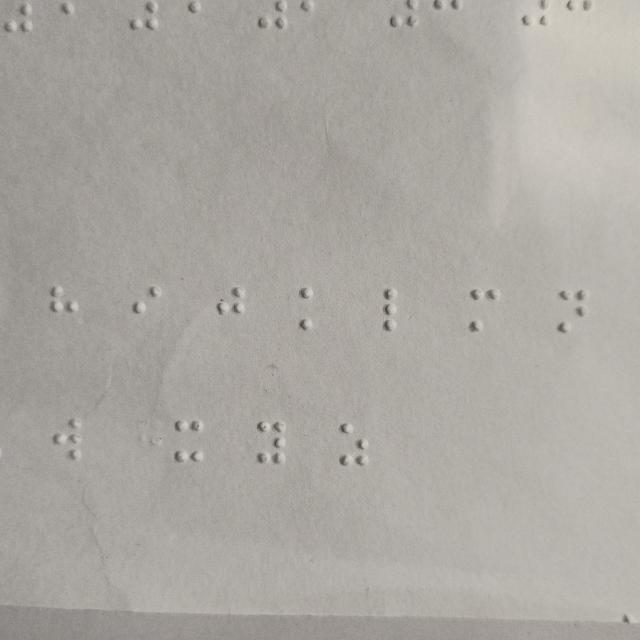hakbang: (215, 286, 248, 335)
hindi: (49, 282, 81, 331)
ikaw: (129, 284, 162, 333)
ito: (172, 417, 205, 466)
kaya: (298, 286, 330, 335)
lamang: (381, 285, 414, 334)
mga: (467, 286, 499, 335)
ngayon: (556, 288, 589, 336)
sa: (337, 419, 370, 468)
wala: (51, 415, 83, 463)
yaman: (256, 418, 288, 467)
